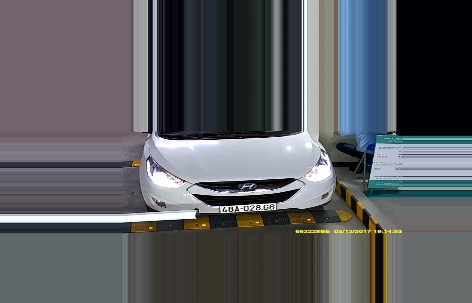plate: (217, 202, 279, 211)
